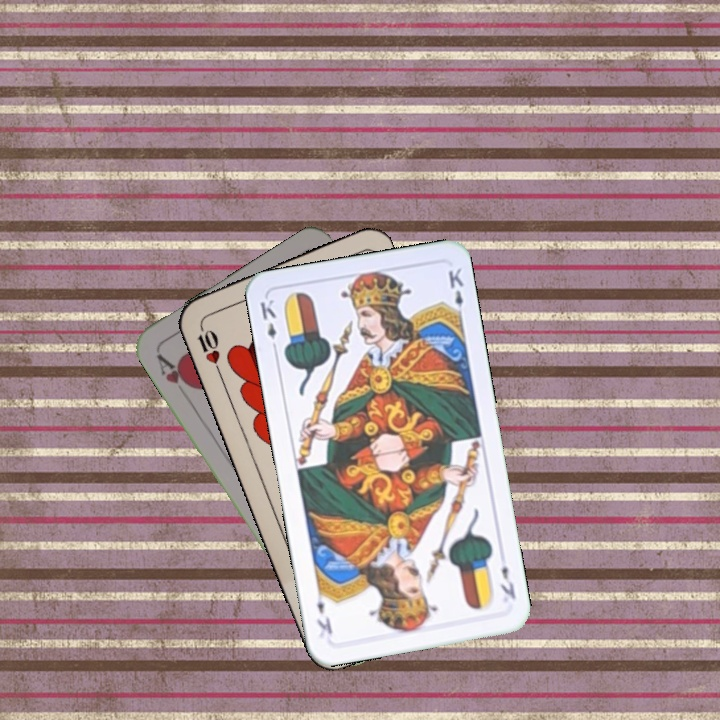EK: (256, 295, 280, 355), (496, 561, 519, 602)
H10: (193, 319, 225, 377)
HA: (152, 349, 197, 393)
